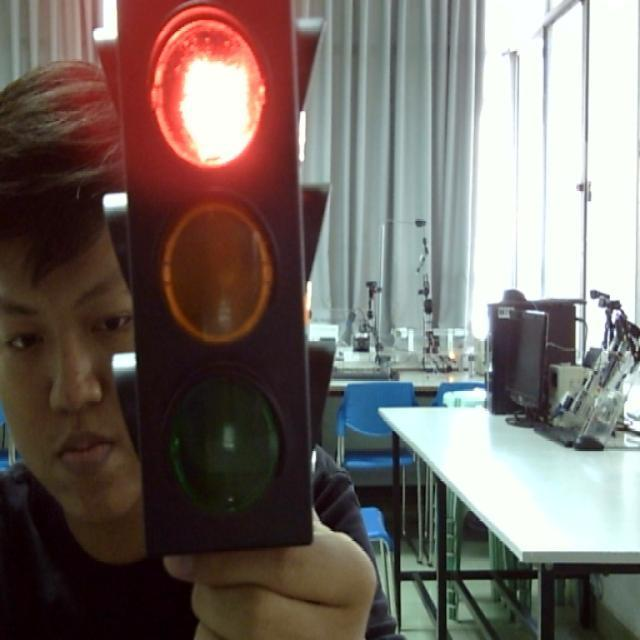red_light: (112, 0, 328, 556)
